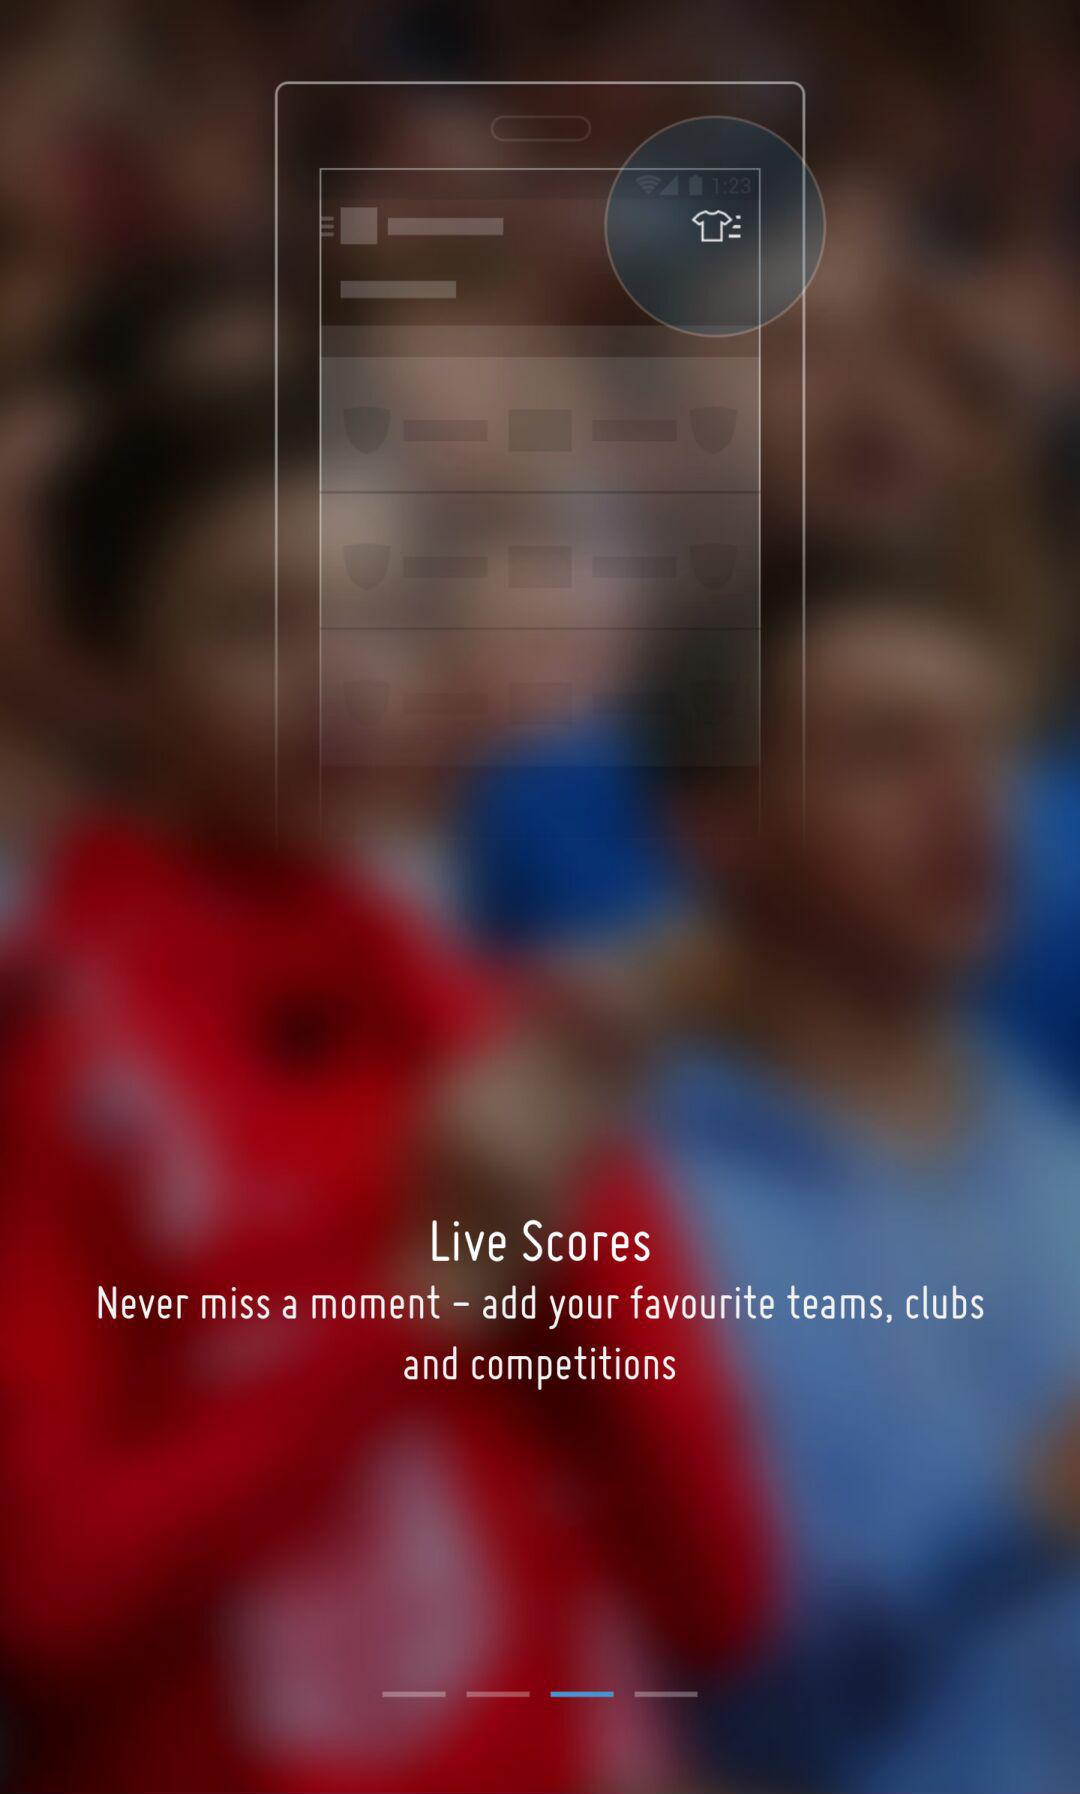BackgroundImage: (1, 3, 1080, 1794)
Image: (274, 81, 828, 850)
PageIndicator: (380, 1689, 700, 1699)
Text: (97, 1284, 985, 1392), (430, 1219, 652, 1263)
